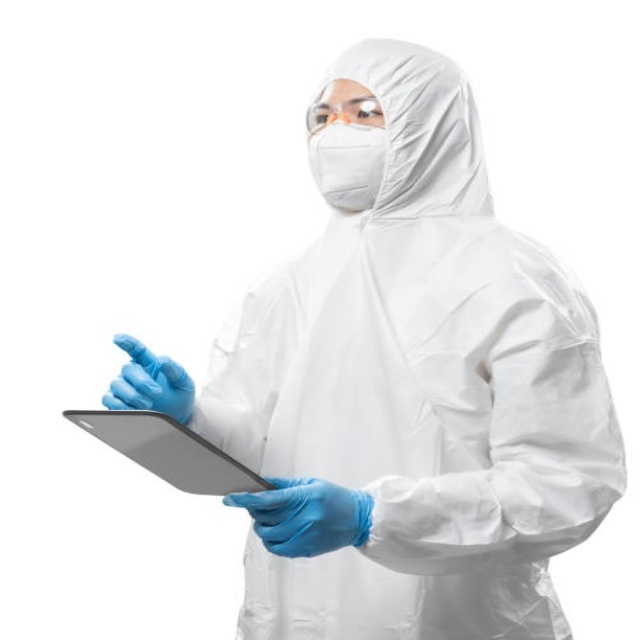Gafas: (307, 98, 384, 134)
Guantes: (226, 478, 374, 559), (105, 334, 196, 427)
Mascara: (309, 123, 389, 210)
